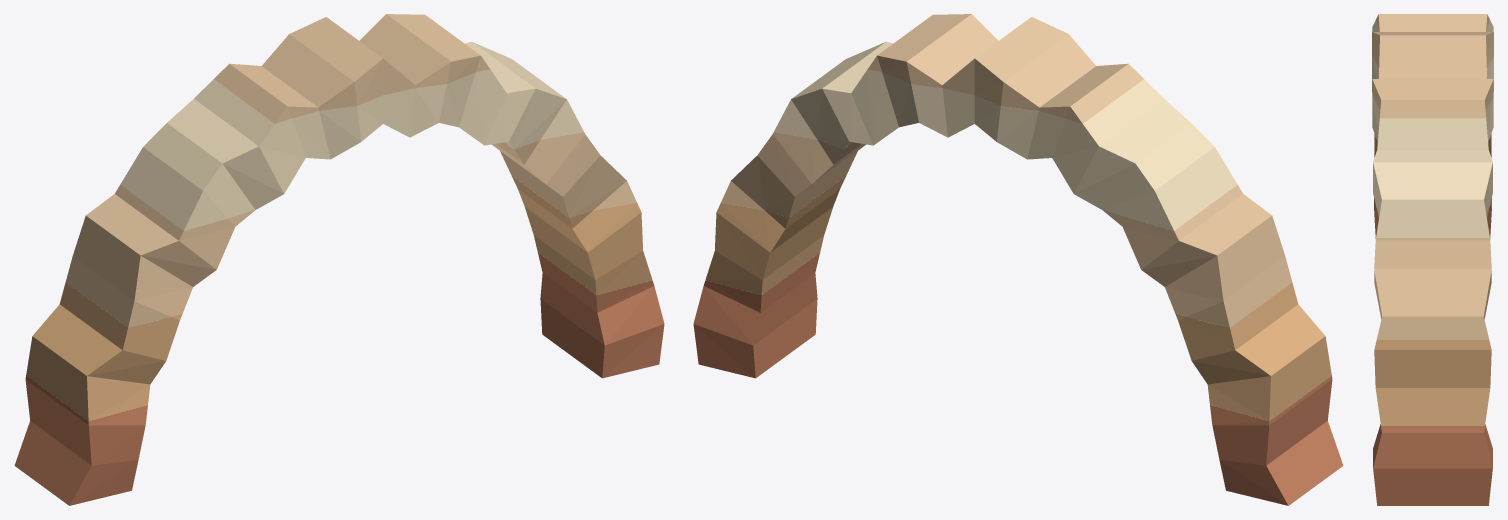
The model's file is desert-canyons-and-oases-natural-arch-large-5171d869__20921.glb.
3 renders of one model, left to right at view 1: azimuth 30°, elevation 25°; view 2: azimuth 150°, elevation 25°; view 3: azimuth 270°, elevation 25°, orthographic. The views are drawn at different scales.
Visible parts, largest first — view 1: natural-arch-large; view 2: natural-arch-large; view 3: natural-arch-large.
Part boxes in pixels (box(x1,y1,x2,y2)): natural-arch-large: box(14, 14, 664, 505); natural-arch-large: box(693, 14, 1343, 505); natural-arch-large: box(1372, 14, 1493, 505).
Size of the model in its own units: 11.36 by 6.84 by 2.18.
